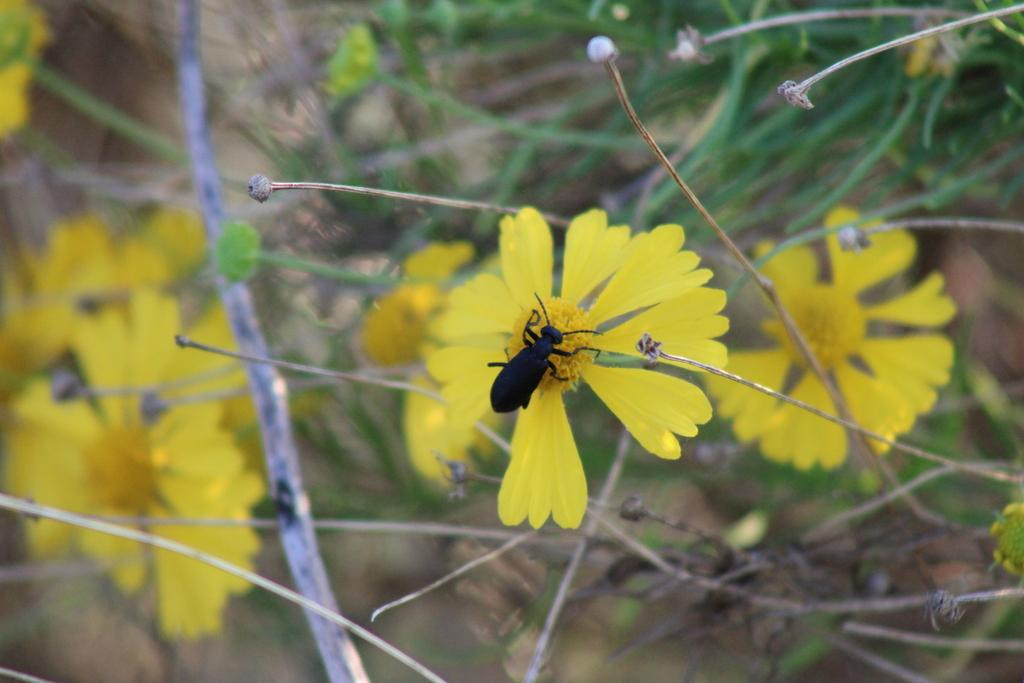blister_beetle: (455, 271, 617, 453)
